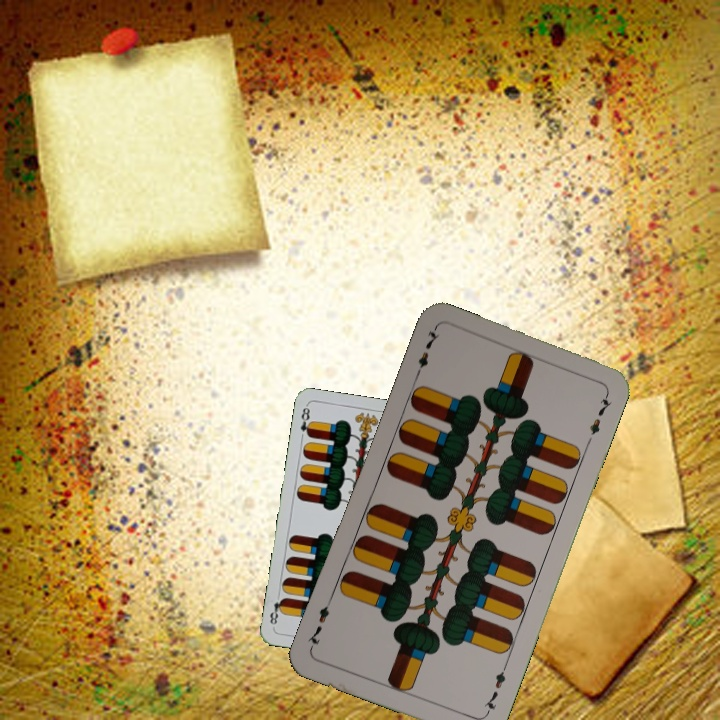E7: (410, 325, 442, 382), (479, 661, 510, 718)
E8: (296, 402, 315, 443)
